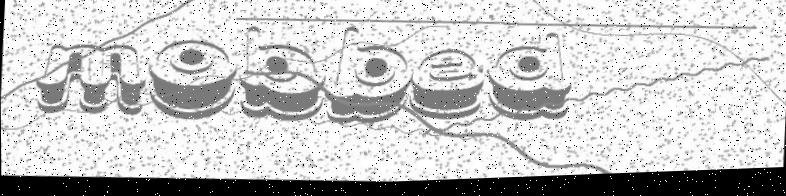b: (324, 25, 413, 132), (237, 22, 328, 126)
d: (484, 31, 575, 131)
e: (405, 45, 487, 128)
m: (32, 37, 149, 119)
o: (144, 35, 241, 128)
